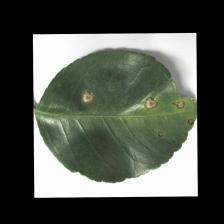canker: (78, 68, 194, 144)
